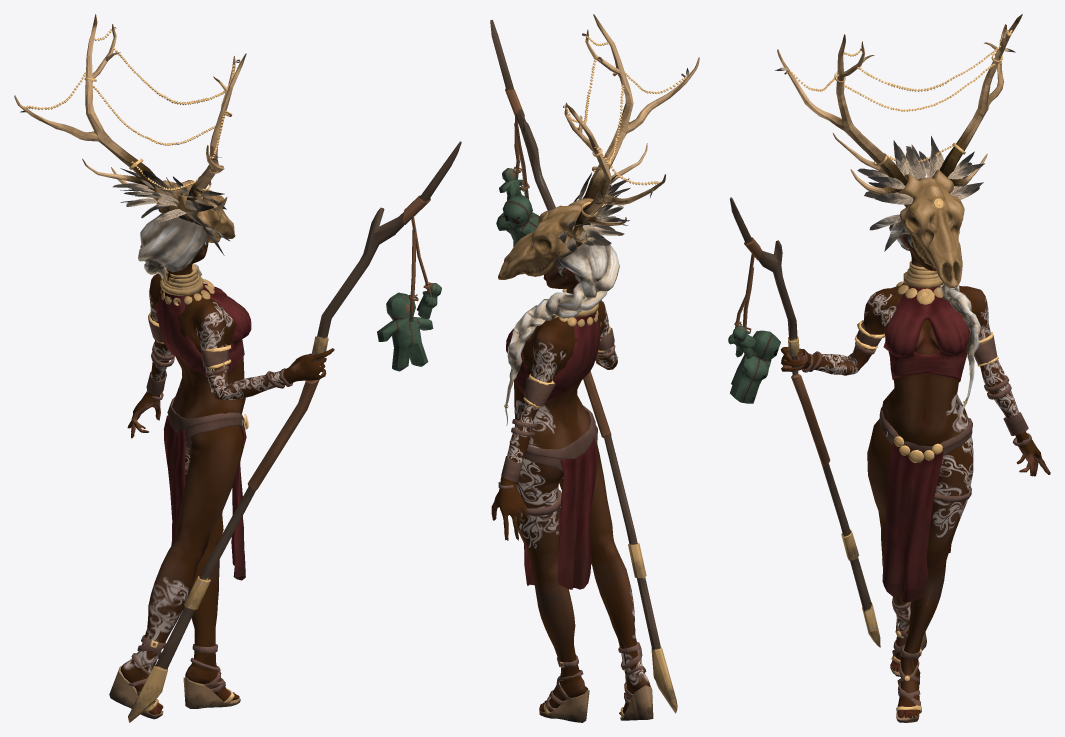
The model's file is strasidlo_les.glb.
3 views of the same model, side by side, from view 1: azimuth 30°, elevation 25°; view 2: azimuth 150°, elevation 25°; view 3: azimuth 270°, elevation 25° (orthographic).
Parts seen in each view (by area): view 1: strasidlo_les; view 2: strasidlo_les; view 3: strasidlo_les.
Part boxes in pixels (bbox=[...]): strasidlo_les: bbox=[14, 14, 461, 722]; strasidlo_les: bbox=[490, 14, 699, 722]; strasidlo_les: bbox=[728, 14, 1050, 722].
Size of the model in its own units: 1.16 by 2.4 by 1.03.
Materials: 2 (2 with a texture image).
